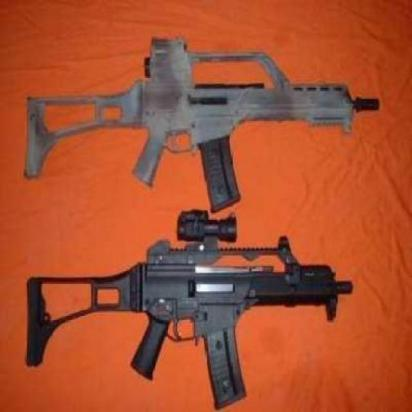Gun: (17, 201, 368, 411)
